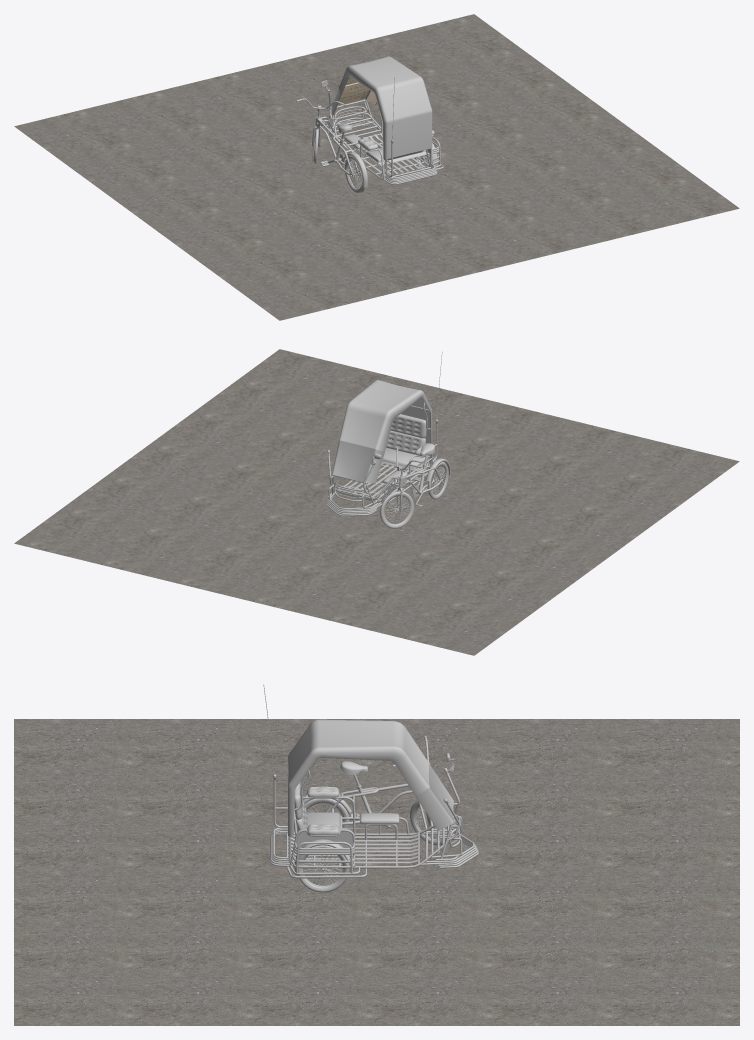
3 renders of one model, top to bottom at view 1: azimuth 30°, elevation 25°; view 2: azimuth 150°, elevation 25°; view 3: azimuth 270°, elevation 25°, orthographic. The views are drawn at different scales.
Parts seen in each view (by area): view 1: Tricycle; view 2: Tricycle; view 3: Tricycle.
Boxes of the visible parts, bbox=[...] form: Tricycle: bbox=[14, 14, 739, 320]; Tricycle: bbox=[14, 349, 739, 655]; Tricycle: bbox=[14, 684, 739, 1025].
Size of the model in its own units: 2751 by 723 by 2751.
